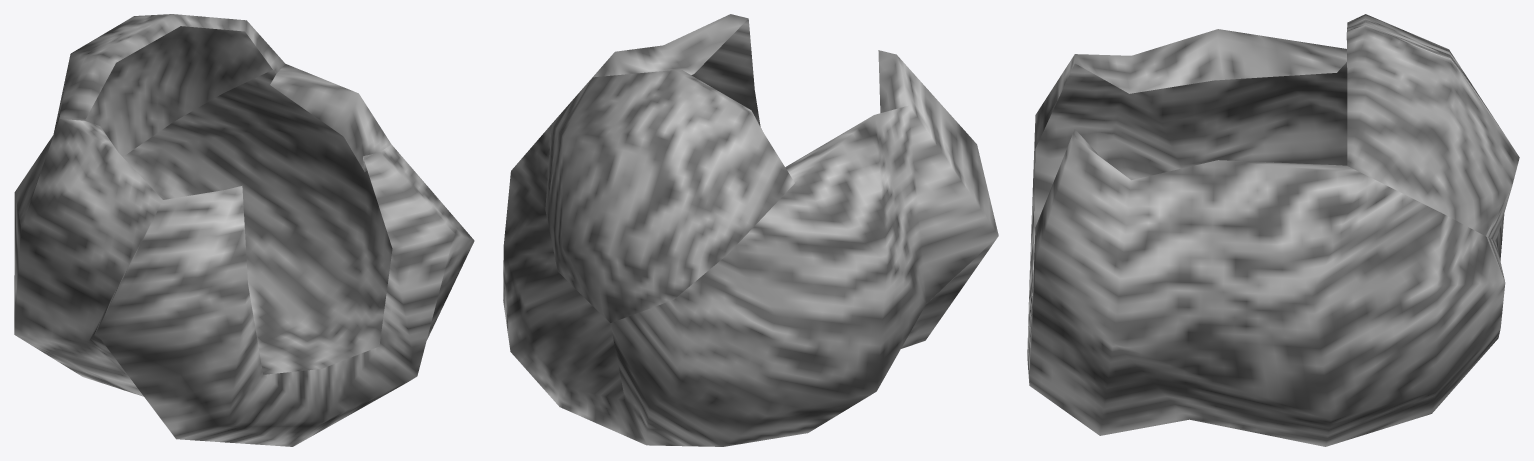
Rendered from Wig_Kate_Hair_BobCurly.fbx.
3 views of the same model, side by side, from view 1: azimuth 30°, elevation 25°; view 2: azimuth 150°, elevation 25°; view 3: azimuth 270°, elevation 25° (orthographic). The views are drawn at different scales.
Parts seen in each view (by area): view 1: BoxOfJars003; view 2: BoxOfJars003; view 3: BoxOfJars003.
Boxes of the visible parts, left/top/right/bottom form: BoxOfJars003: left=14, top=14, right=474, bottom=446; BoxOfJars003: left=503, top=14, right=998, bottom=446; BoxOfJars003: left=1027, top=14, right=1519, bottom=446.
Size of the model in its own units: 16.03 by 14.1 by 16.19.
